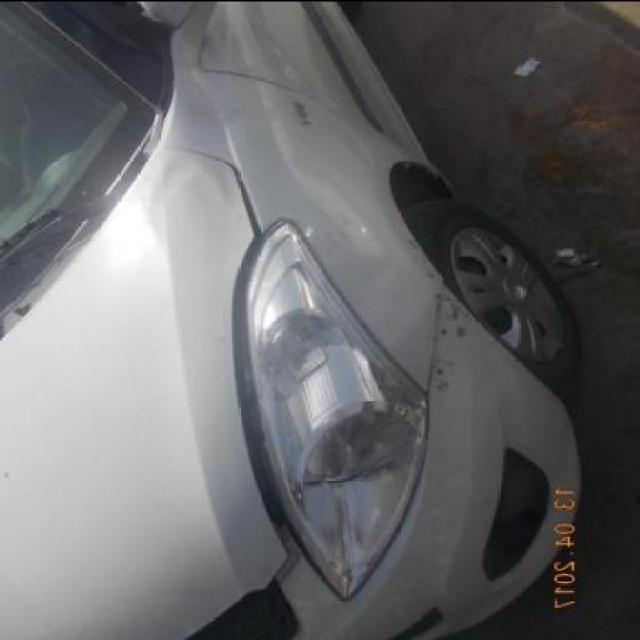damage: (227, 163, 296, 590), (404, 238, 477, 405), (144, 151, 227, 251)
